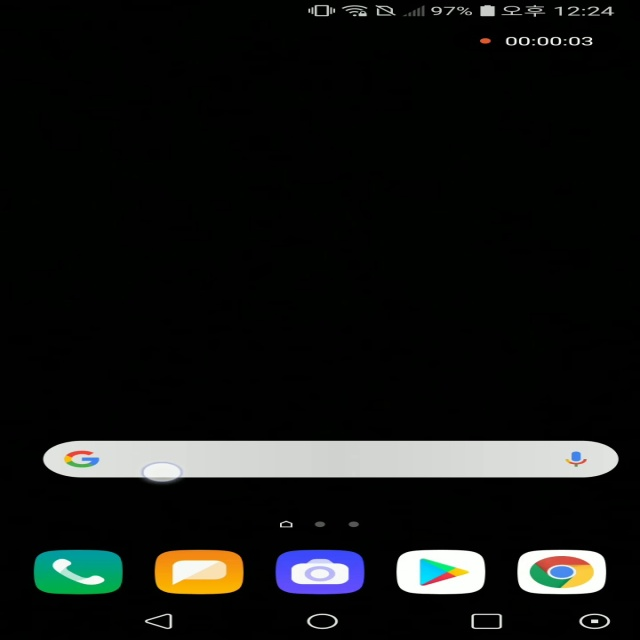Cursor: (140, 462, 184, 484)
